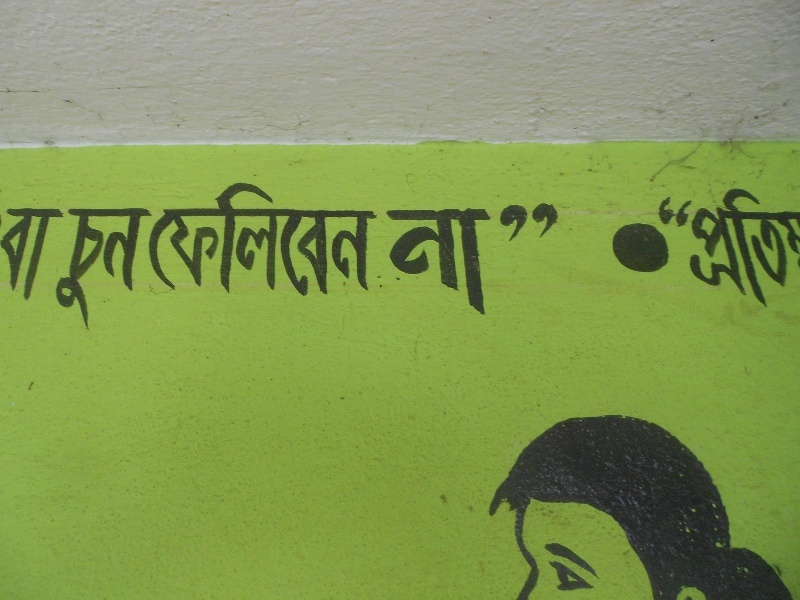text: (81, 199, 96, 336), (97, 199, 112, 336), (113, 199, 128, 336), (129, 199, 144, 336), (145, 180, 160, 303), (161, 180, 176, 303), (177, 180, 192, 303), (193, 180, 208, 303), (209, 180, 224, 303), (225, 180, 240, 303), (241, 180, 256, 303), (257, 180, 272, 303), (273, 180, 288, 303), (289, 180, 304, 303), (305, 180, 320, 303), (321, 180, 336, 303), (337, 180, 352, 303), (353, 180, 368, 303), (369, 180, 384, 303), (689, 189, 704, 311), (705, 189, 720, 311), (721, 189, 736, 311), (737, 189, 752, 311), (753, 189, 768, 311), (769, 189, 784, 311), (385, 199, 400, 320), (401, 199, 416, 320), (417, 199, 432, 320), (433, 199, 448, 320), (449, 199, 464, 320), (465, 199, 480, 320), (481, 199, 496, 320), (785, 189, 799, 311), (145, 199, 156, 336), (1, 205, 16, 301), (17, 205, 32, 301), (33, 205, 48, 301), (49, 205, 64, 301), (73, 199, 80, 336), (609, 221, 624, 275), (625, 221, 640, 275), (641, 221, 656, 275), (657, 221, 671, 275), (138, 180, 144, 303), (497, 199, 503, 320), (497, 199, 512, 245), (513, 199, 528, 245), (529, 199, 544, 245), (545, 199, 560, 245), (657, 192, 672, 228), (673, 192, 688, 228), (685, 189, 688, 311), (689, 192, 696, 228), (385, 180, 387, 303), (65, 205, 67, 301), (651, 192, 656, 228)
